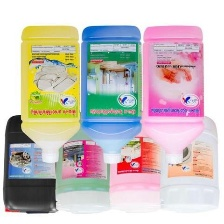cleaning_solution: (76, 22, 143, 165), (139, 22, 204, 164), (18, 23, 81, 165), (154, 113, 222, 217), (2, 112, 68, 216), (52, 109, 116, 214), (105, 112, 164, 216)
